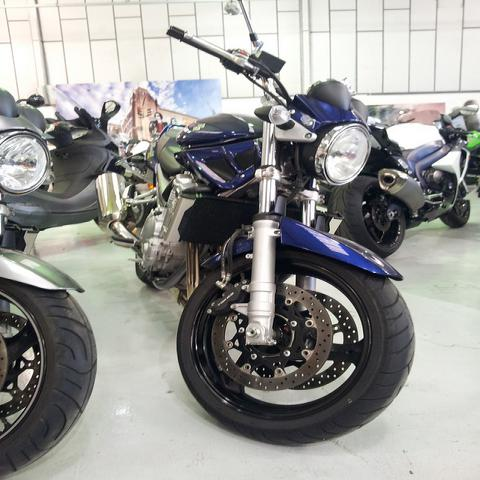motorcycle: (100, 25, 412, 444), (2, 90, 108, 468), (328, 120, 477, 257)
